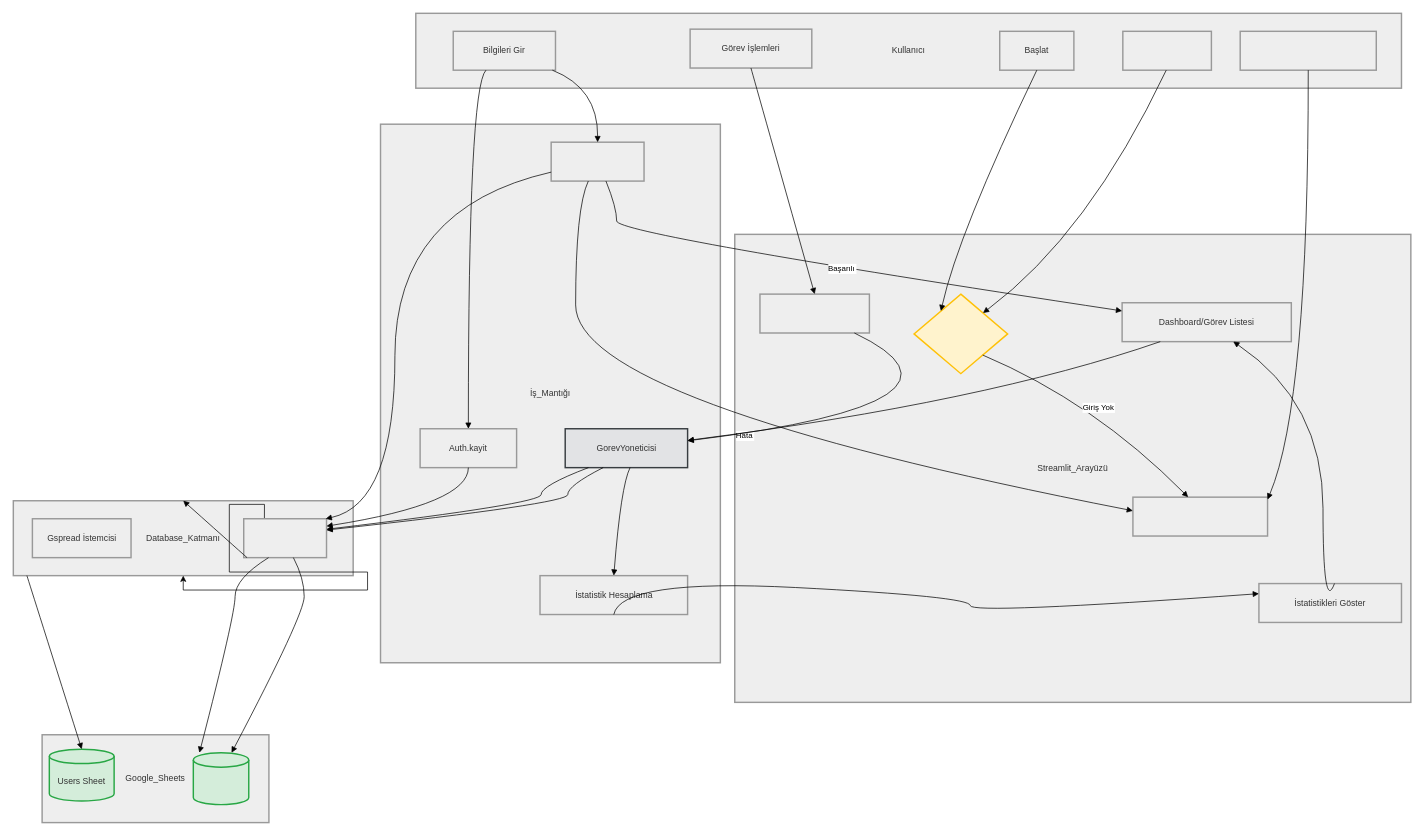
Image size: 1423x835. Some labels were removed from this diagram. Here are the shapes that lost their labels. From the top down, the centre of each, then its label:
(1167,50): Çıkış Yap
(1308,50): Giriş/Kayıt Seçimi
(597,161): Auth.giris
(814,313): Görev Formu
(960,333): Session Kontrolü
(1200,516): Giriş/Kayıt Ekranı
(285,538): CRUD İşlemleri
(220,778): Tasks Sheet
